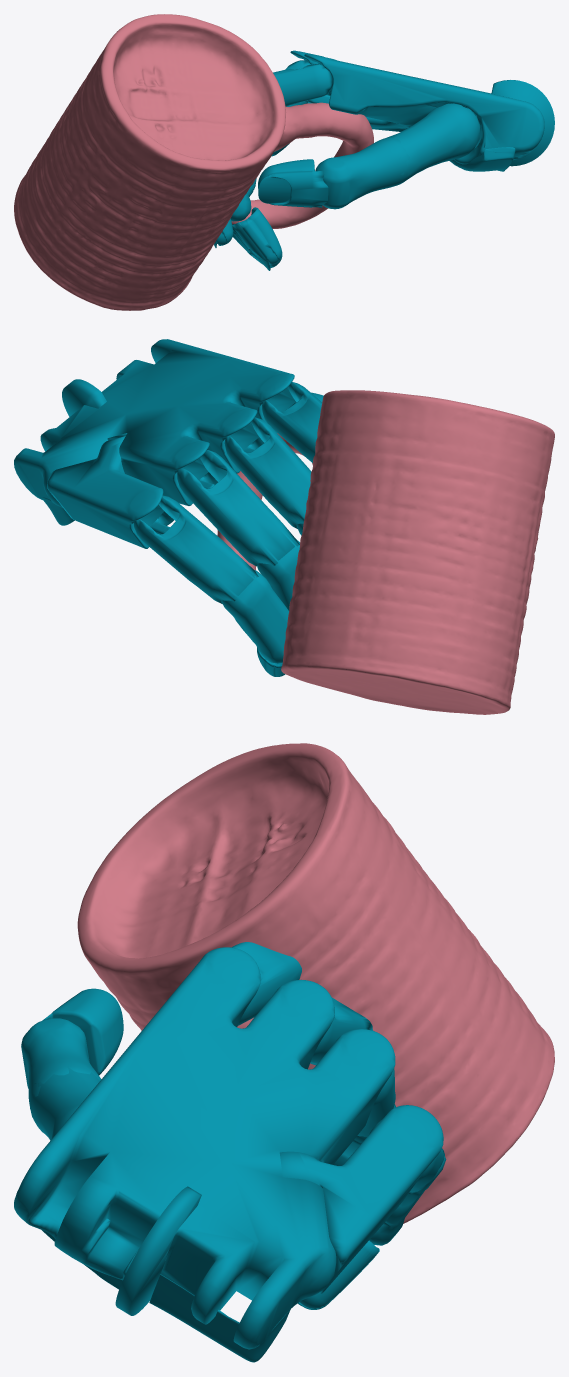
3 views of the same model, one above another, from view 1: azimuth 30°, elevation 25°; view 2: azimuth 150°, elevation 25°; view 3: azimuth 270°, elevation 25° (orthographic). The views are drawn at different scales.
Visible parts, largest first — view 1: world; view 2: world; view 3: world.
Part boxes in pixels (x1,y1,x2,y2): world: (14,14,554,310); world: (14,339,554,714); world: (14,743,554,1362).
Size of the model in its own units: 0.2379 by 0.1384 by 0.1491.
